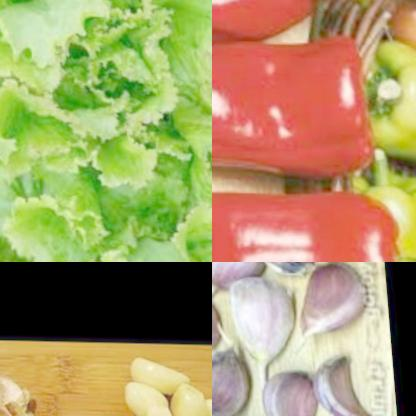bell pepper: (212, 14, 385, 178), (212, 186, 416, 262), (359, 36, 416, 198), (344, 168, 416, 262), (212, 0, 348, 46)
garlic: (72, 348, 212, 416), (228, 268, 295, 397), (282, 262, 375, 354), (301, 346, 368, 416), (212, 332, 253, 416), (250, 370, 319, 416), (212, 262, 266, 294), (256, 262, 313, 276)
salad: (0, 0, 212, 262)
